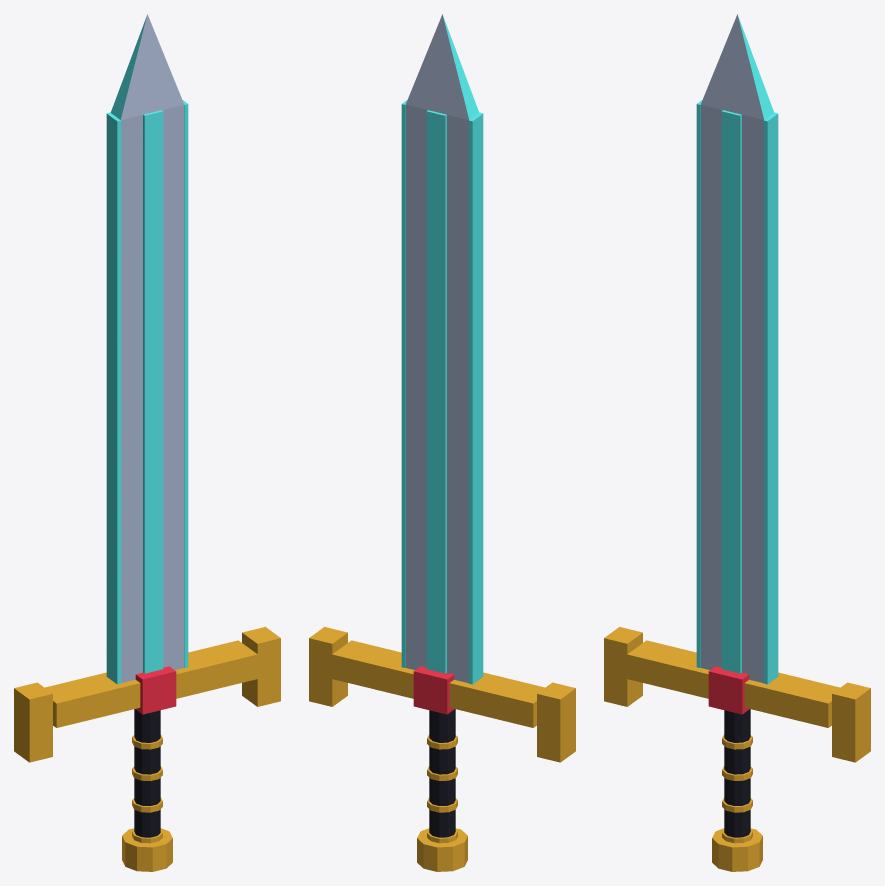
File: sword.glb
The picture shows the model from 3 angles, left to right: view 1: azimuth 30°, elevation 25°; view 2: azimuth 150°, elevation 25°; view 3: azimuth 330°, elevation 25°; orthographic projection.
Parts seen in each view (by area): view 1: Sword; view 2: Sword; view 3: Sword.
Part boxes in pixels (<box>): Sword: <box>14,14,280,871</box>; Sword: <box>309,14,575,871</box>; Sword: <box>604,14,870,871</box>.
Size of the model in its own units: 3.75 by 12.07 by 0.6277.
5 materials, 5 textured.
